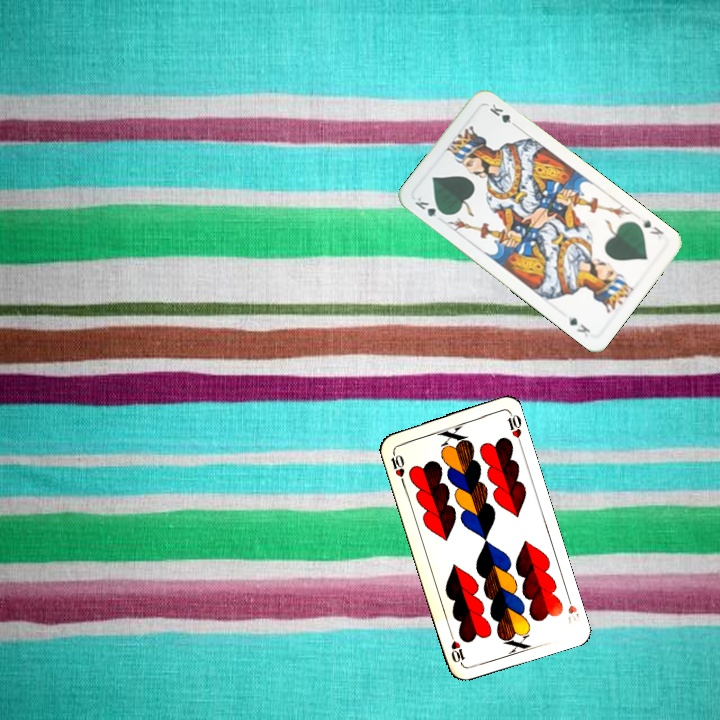GK: (411, 193, 448, 221), (636, 214, 666, 242)
H10: (386, 446, 407, 486), (563, 589, 582, 629)
